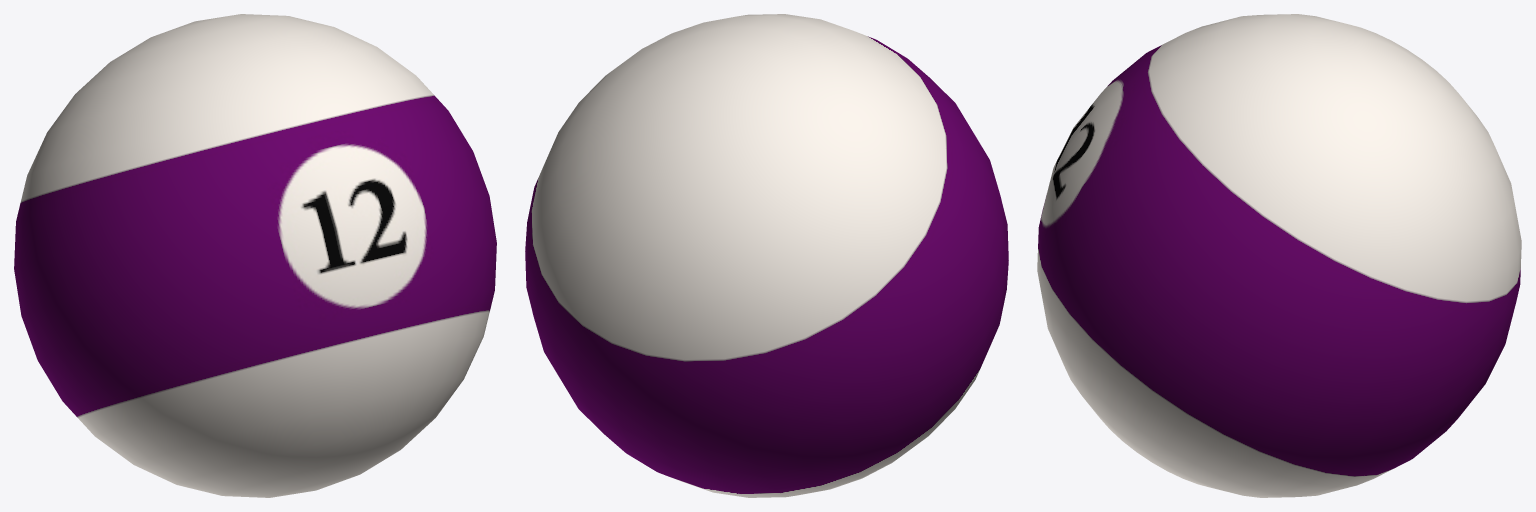
File: ball12.obj
3 renders of one model, left to right at view 1: azimuth 30°, elevation 25°; view 2: azimuth 150°, elevation 25°; view 3: azimuth 270°, elevation 25°, orthographic.
Parts seen in each view (by area): view 1: Ball12_Mesh.007; view 2: Ball12_Mesh.007; view 3: Ball12_Mesh.007.
Boxes of the visible parts, x1,y1,x2,y2 form: Ball12_Mesh.007: (14,14,496,497); Ball12_Mesh.007: (525,14,1008,497); Ball12_Mesh.007: (1037,14,1521,497).
Bounding box in the file's own units: 0.9617 × 0.9597 × 0.9597.
Materials: 1 (1 with a texture image).
